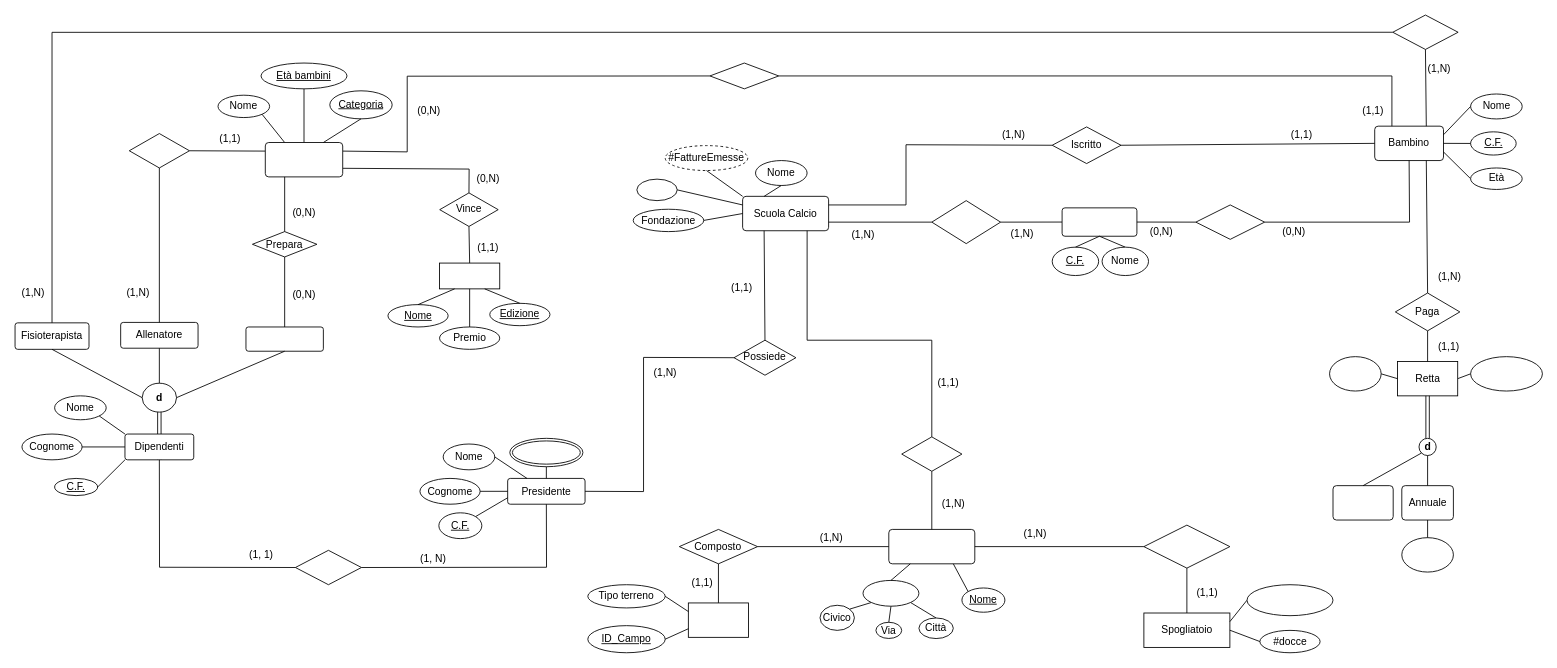
Image size: 1557x668. Some labels were removed from this diagram. The box of each missing label's shape, as (x1, y1, x2, y2) in pixels:
#Telefono: (509, 437, 583, 467)
Allena: (128, 133, 189, 168)
Campo: (687, 602, 749, 637)
Centro Sportivo: (888, 529, 975, 564)
Collabora: (931, 200, 1001, 244)
Cura: (1392, 14, 1458, 49)
Dispone di: (1143, 524, 1230, 568)
Gioca: (709, 62, 779, 89)
ID_Spogliatoio: (1246, 584, 1333, 616)
Importo: (1329, 356, 1381, 391)
Indirizzo: (862, 580, 919, 606)
Medico Sportivo: (1061, 207, 1137, 236)
Mensile: (1332, 485, 1393, 520)
P. IVA: (636, 178, 677, 201)
Preparatore Atletico: (245, 326, 323, 351)
Progressivo: (1470, 356, 1542, 391)
Sconto: (1401, 537, 1453, 572)
Squadra: (264, 142, 343, 177)
Stipendia: (295, 549, 361, 585)
Torneo: (439, 262, 500, 289)
Utilizza: (901, 436, 962, 471)
Visita: (1195, 204, 1265, 239)
